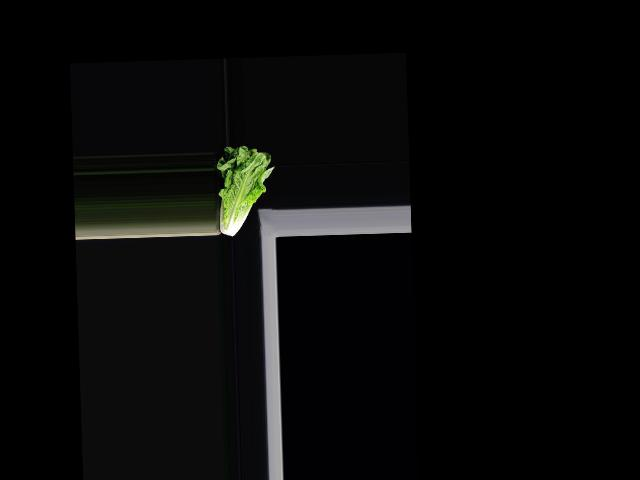lettuce: (215, 143, 275, 237)
